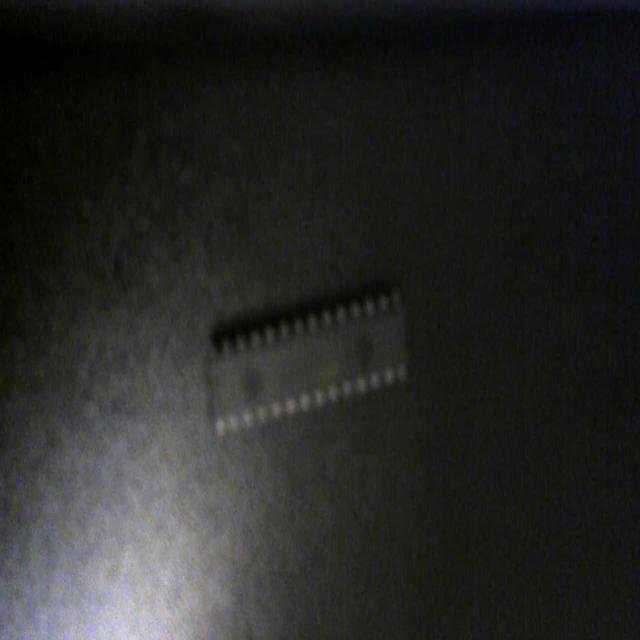atmega: (202, 276, 413, 446)
